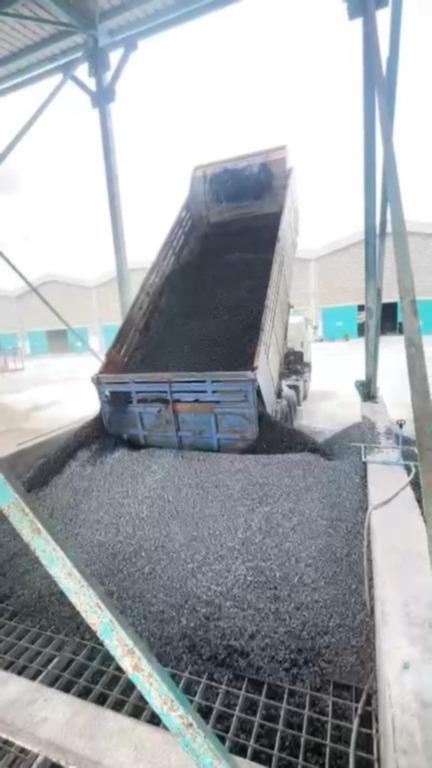gravel: (23, 394, 375, 684), (129, 218, 279, 372), (1, 515, 86, 633), (403, 433, 423, 511)
sand: (1, 401, 77, 450)
